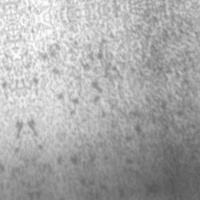pitted_surface: (24, 4, 199, 199)
